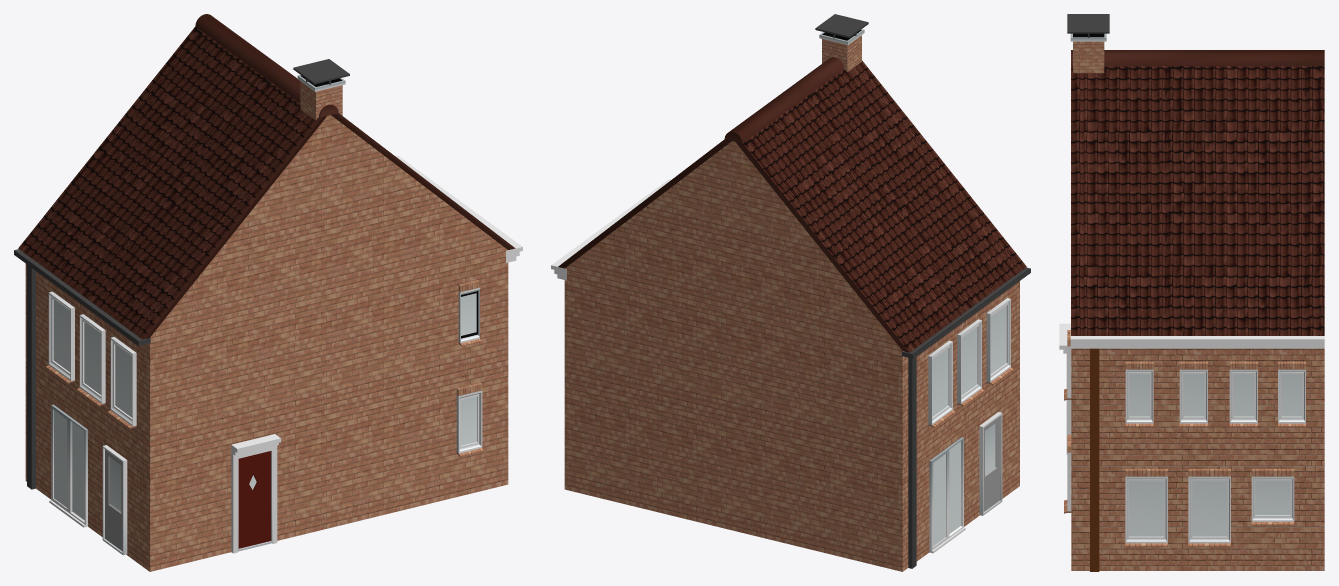
File: It_Bynt_24.fbx
The picture shows the model from 3 angles, left to right: view 1: azimuth 30°, elevation 25°; view 2: azimuth 150°, elevation 25°; view 3: azimuth 270°, elevation 25°; orthographic projection. The views are drawn at different scales.
Visible parts, largest first — view 1: It_Bynt_24; view 2: It_Bynt_24; view 3: It_Bynt_24.
Part boxes in pixels (<box>): It_Bynt_24: <box>14,14,522,571</box>; It_Bynt_24: <box>551,14,1030,571</box>; It_Bynt_24: <box>1059,14,1324,571</box>.
Bounding box in the file's own units: 1016 × 1140 × 597.
